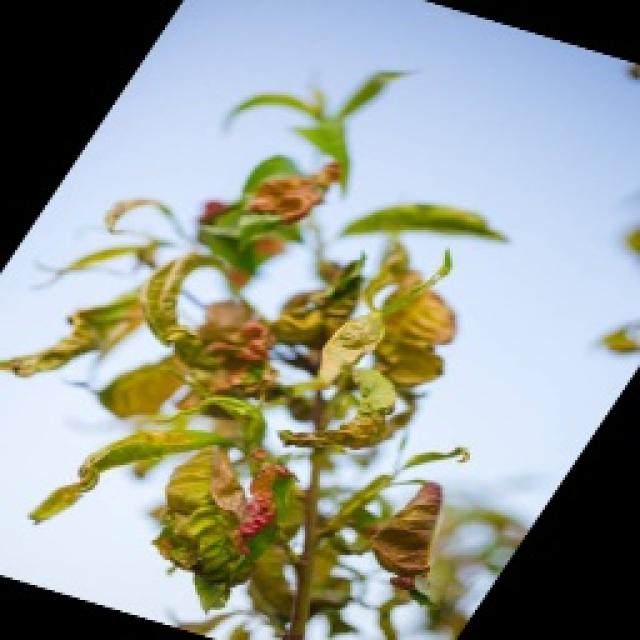peach_leaf_curl: (140, 332, 378, 556)
